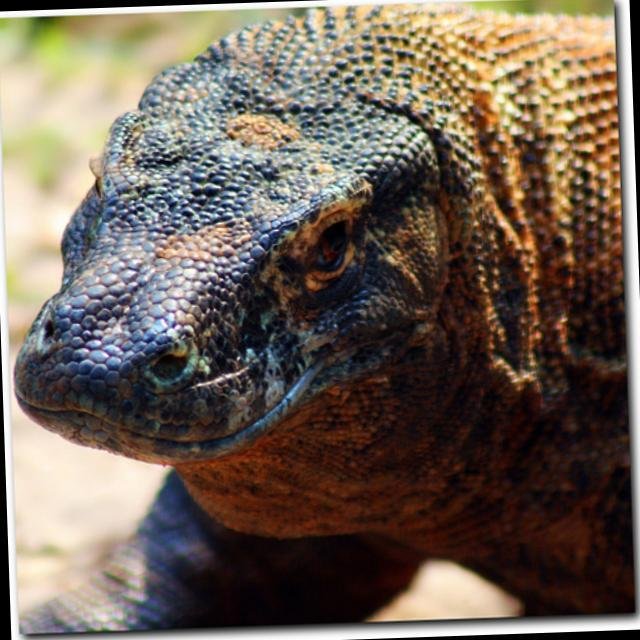KomodoDragon: (1, 0, 634, 574)
